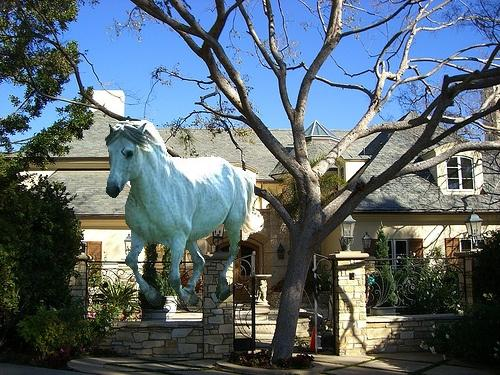tampered: (106, 121, 264, 306)
